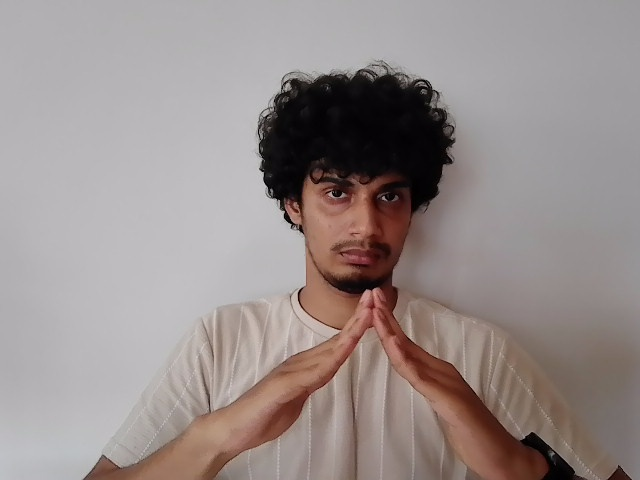home: (209, 290, 504, 471)
